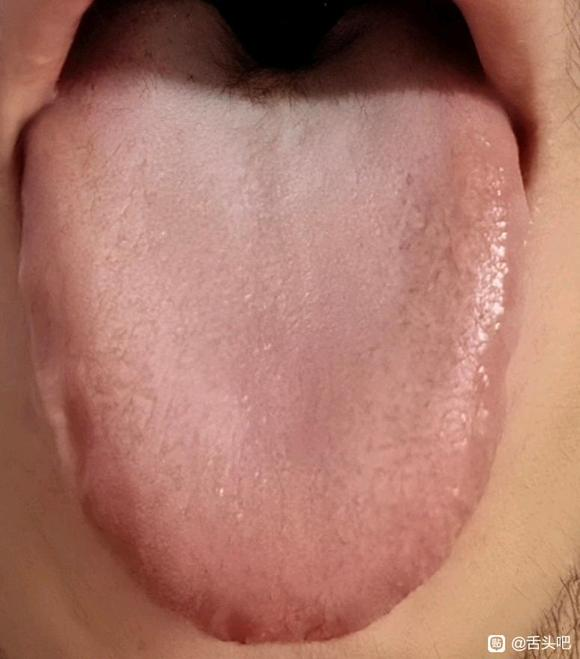baitaishe: (18, 1, 530, 645)
chihenshe: (18, 245, 144, 582)
pangdashe: (18, 1, 530, 644)
shenquao: (139, 2, 391, 104)
